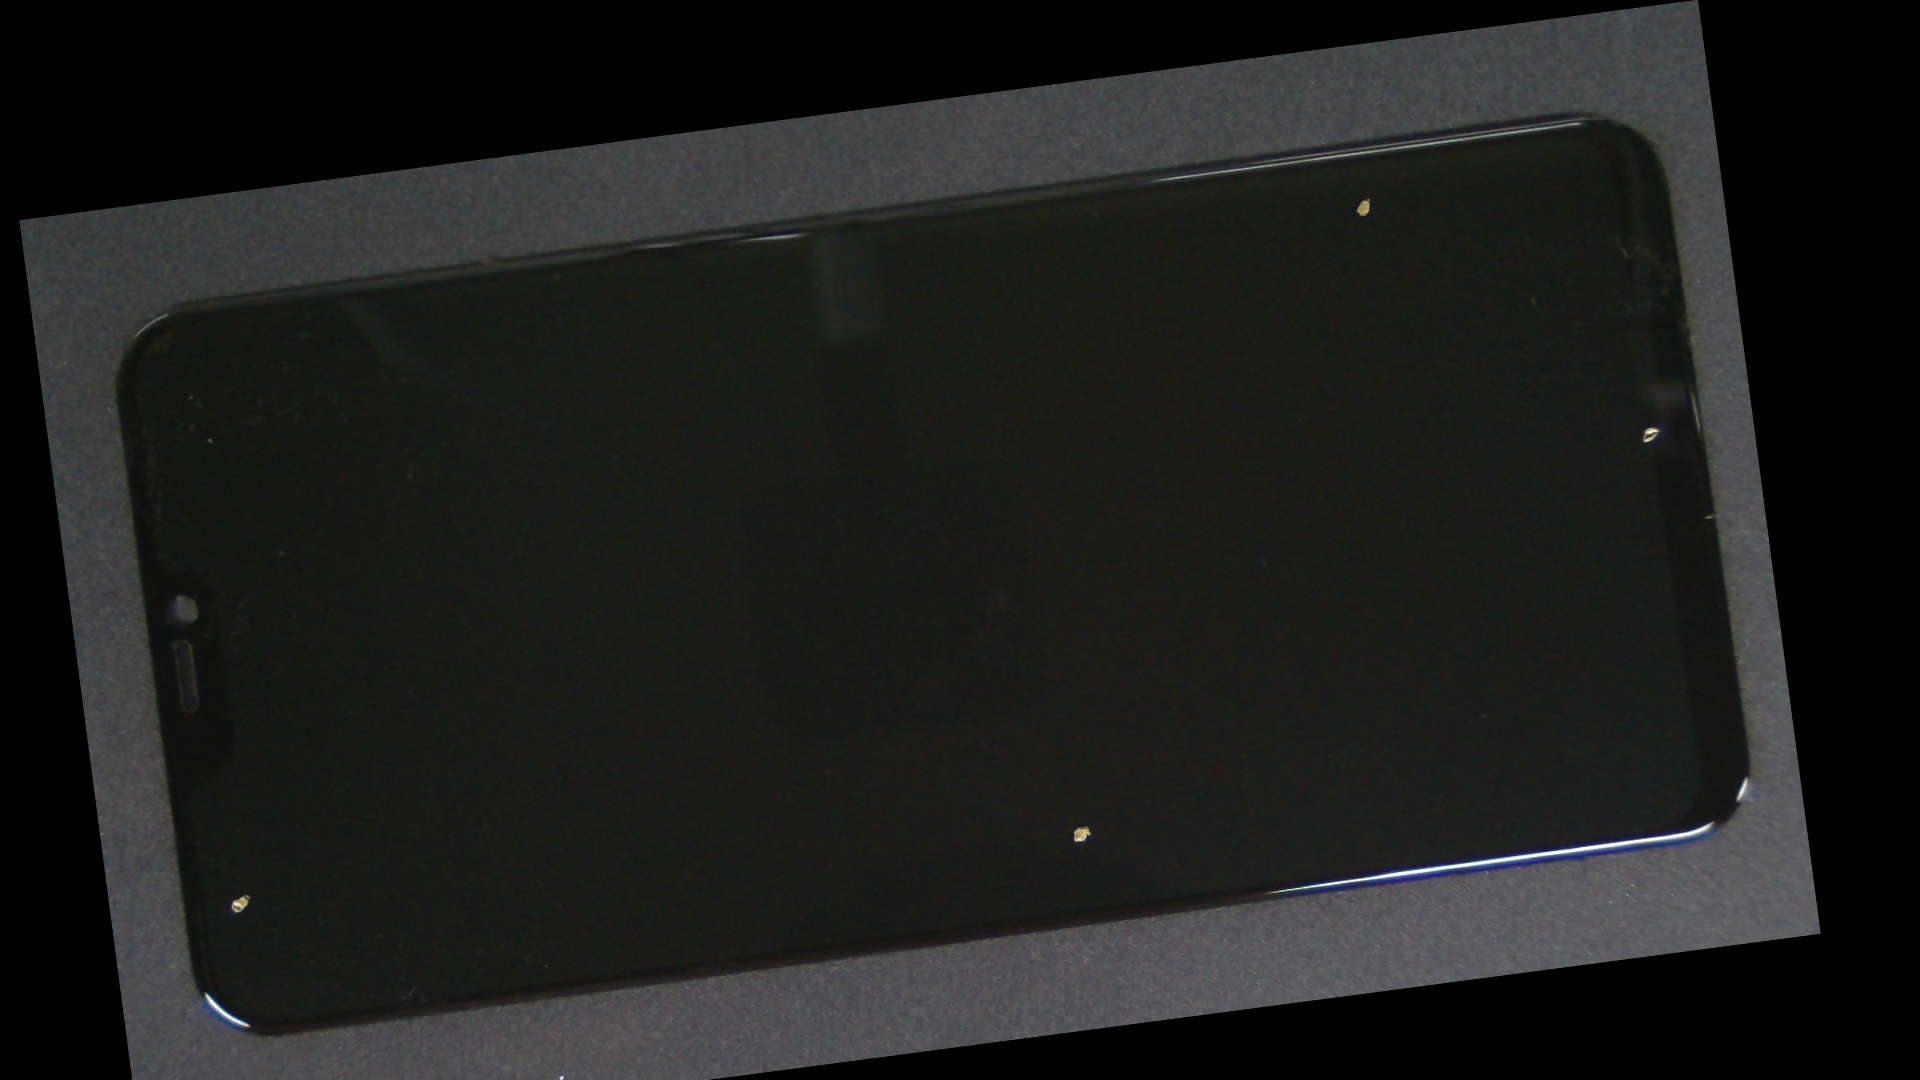oil: (551, 394, 1592, 1080), (837, 206, 1779, 735), (695, 75, 1727, 360), (132, 539, 342, 1080)
